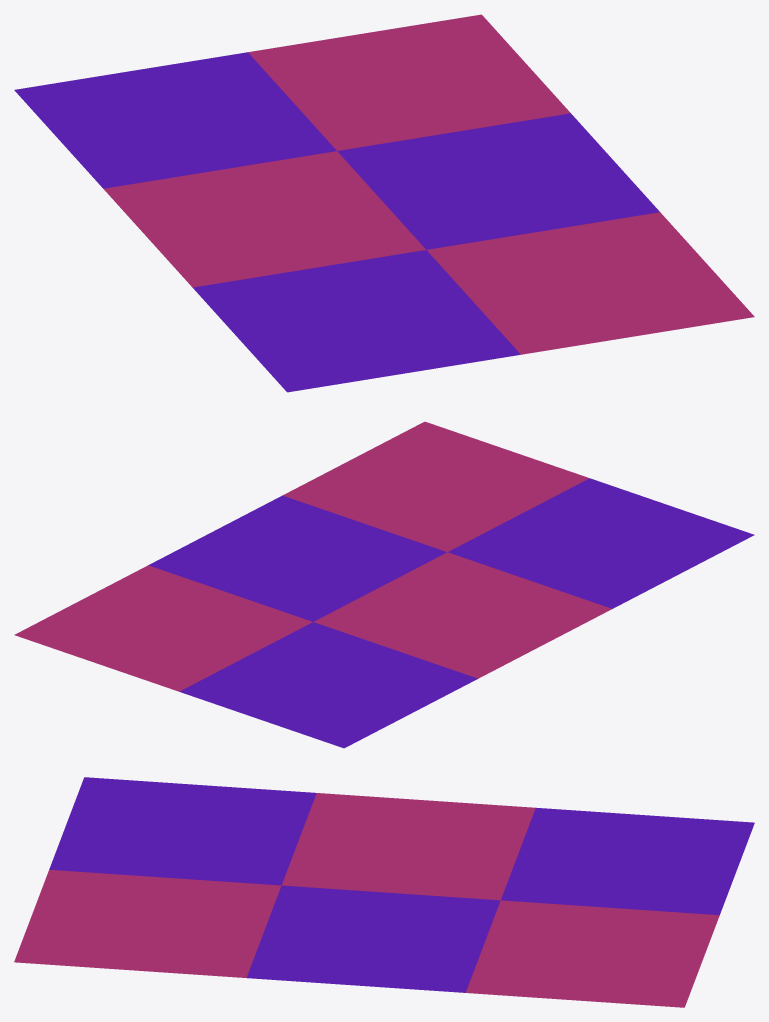
Rendered from Mattress.fbx.
3 renders of one model, top to bottom at view 1: azimuth 30°, elevation 25°; view 2: azimuth 150°, elevation 25°; view 3: azimuth 270°, elevation 25°, orthographic. The views are drawn at different scales.
Visible parts, largest first — view 1: Mattress; view 2: Mattress; view 3: Mattress.
Boxes of the visible parts, x1,y1,x2,y2 form: Mattress: (14,14,754,392); Mattress: (14,421,754,748); Mattress: (14,777,754,1007).
Size of the model in its own units: 637 by 0.000183 by 864.
